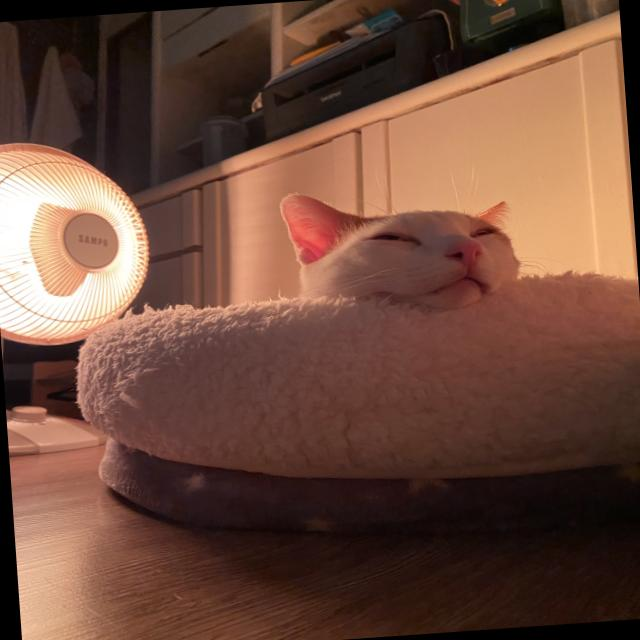cat1: (264, 172, 532, 320)
